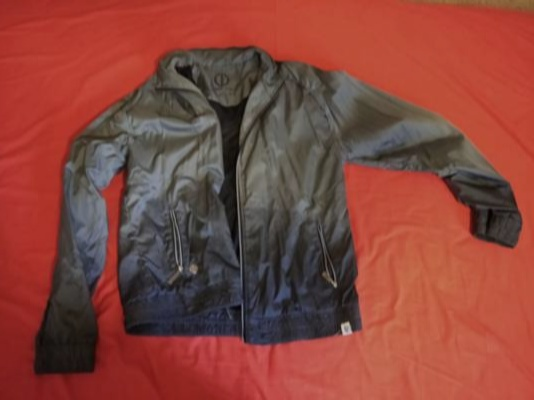Blazer: (5, 56, 515, 380)
